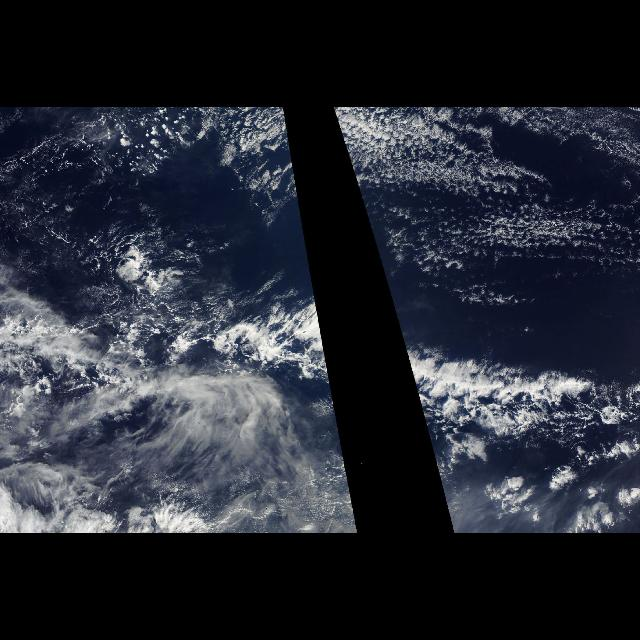Fish: (378, 258, 640, 474), (111, 258, 349, 474)
Gravel: (346, 110, 636, 272)
